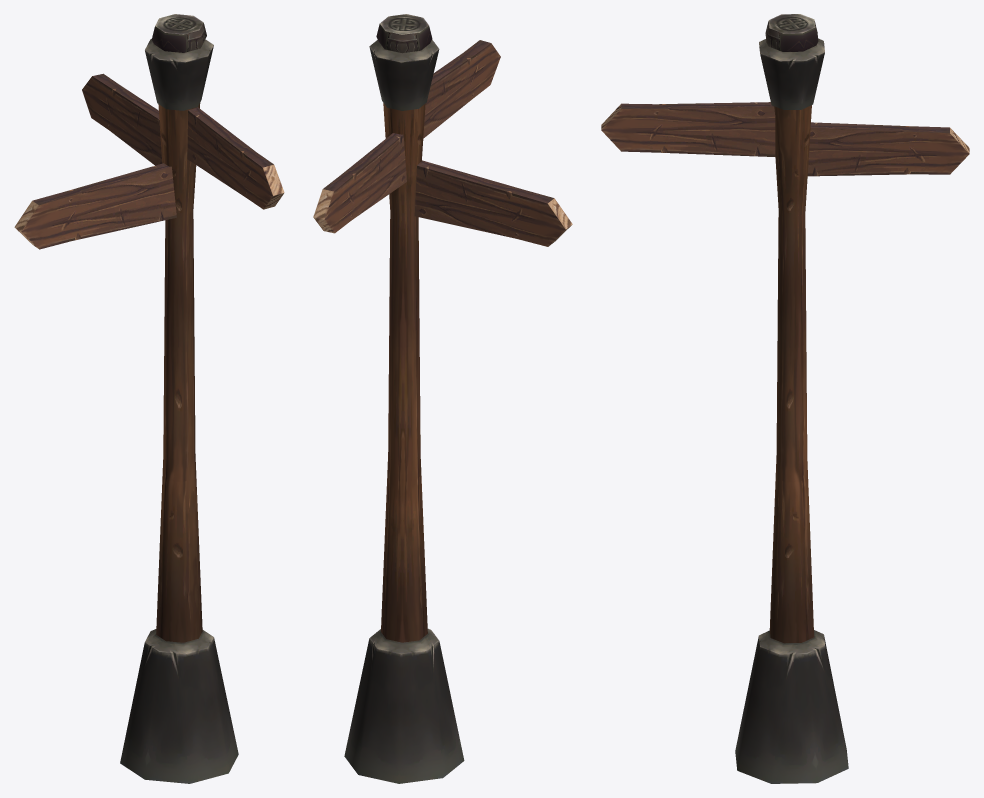
The model's file is zhulupai.FBX.
The picture shows the model from 3 angles, left to right: view 1: azimuth 30°, elevation 25°; view 2: azimuth 150°, elevation 25°; view 3: azimuth 270°, elevation 25°; orthographic projection.
Visible parts, largest first — view 1: zhilupai; view 2: zhilupai; view 3: zhilupai.
Part boxes in pixels (bbox=[...]): zhilupai: bbox=[14, 14, 284, 783]; zhilupai: bbox=[313, 14, 572, 783]; zhilupai: bbox=[601, 14, 969, 783].
Size of the model in its own units: 1.29 by 4.27 by 1.94.
